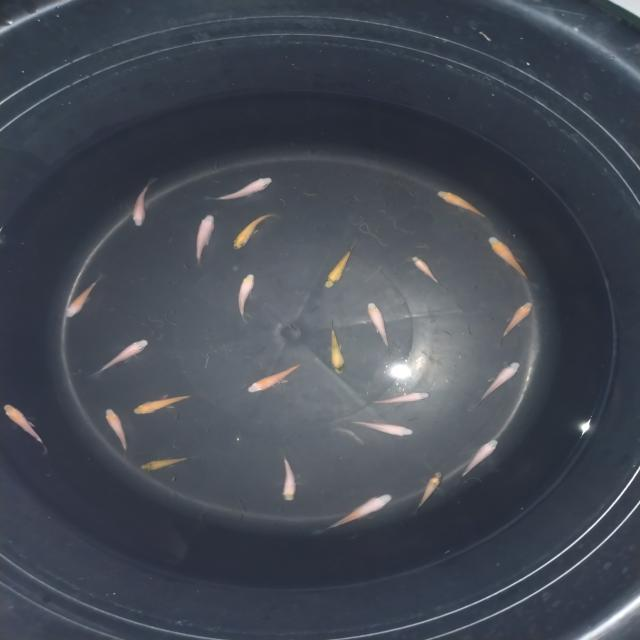nila: (319, 492, 392, 535), (90, 335, 153, 378), (470, 359, 524, 407), (228, 206, 284, 252), (60, 271, 106, 327), (486, 232, 534, 284), (1, 402, 49, 453), (492, 298, 540, 347), (238, 361, 308, 394), (196, 176, 276, 204), (433, 188, 495, 224), (189, 208, 221, 270), (456, 437, 498, 483), (361, 301, 394, 357), (130, 390, 194, 418), (322, 242, 358, 290), (102, 404, 134, 456), (128, 174, 158, 229), (347, 416, 421, 438), (412, 467, 444, 515), (234, 270, 260, 329), (326, 316, 350, 378), (132, 452, 198, 474), (365, 389, 435, 408), (276, 449, 300, 503), (409, 253, 442, 288)
